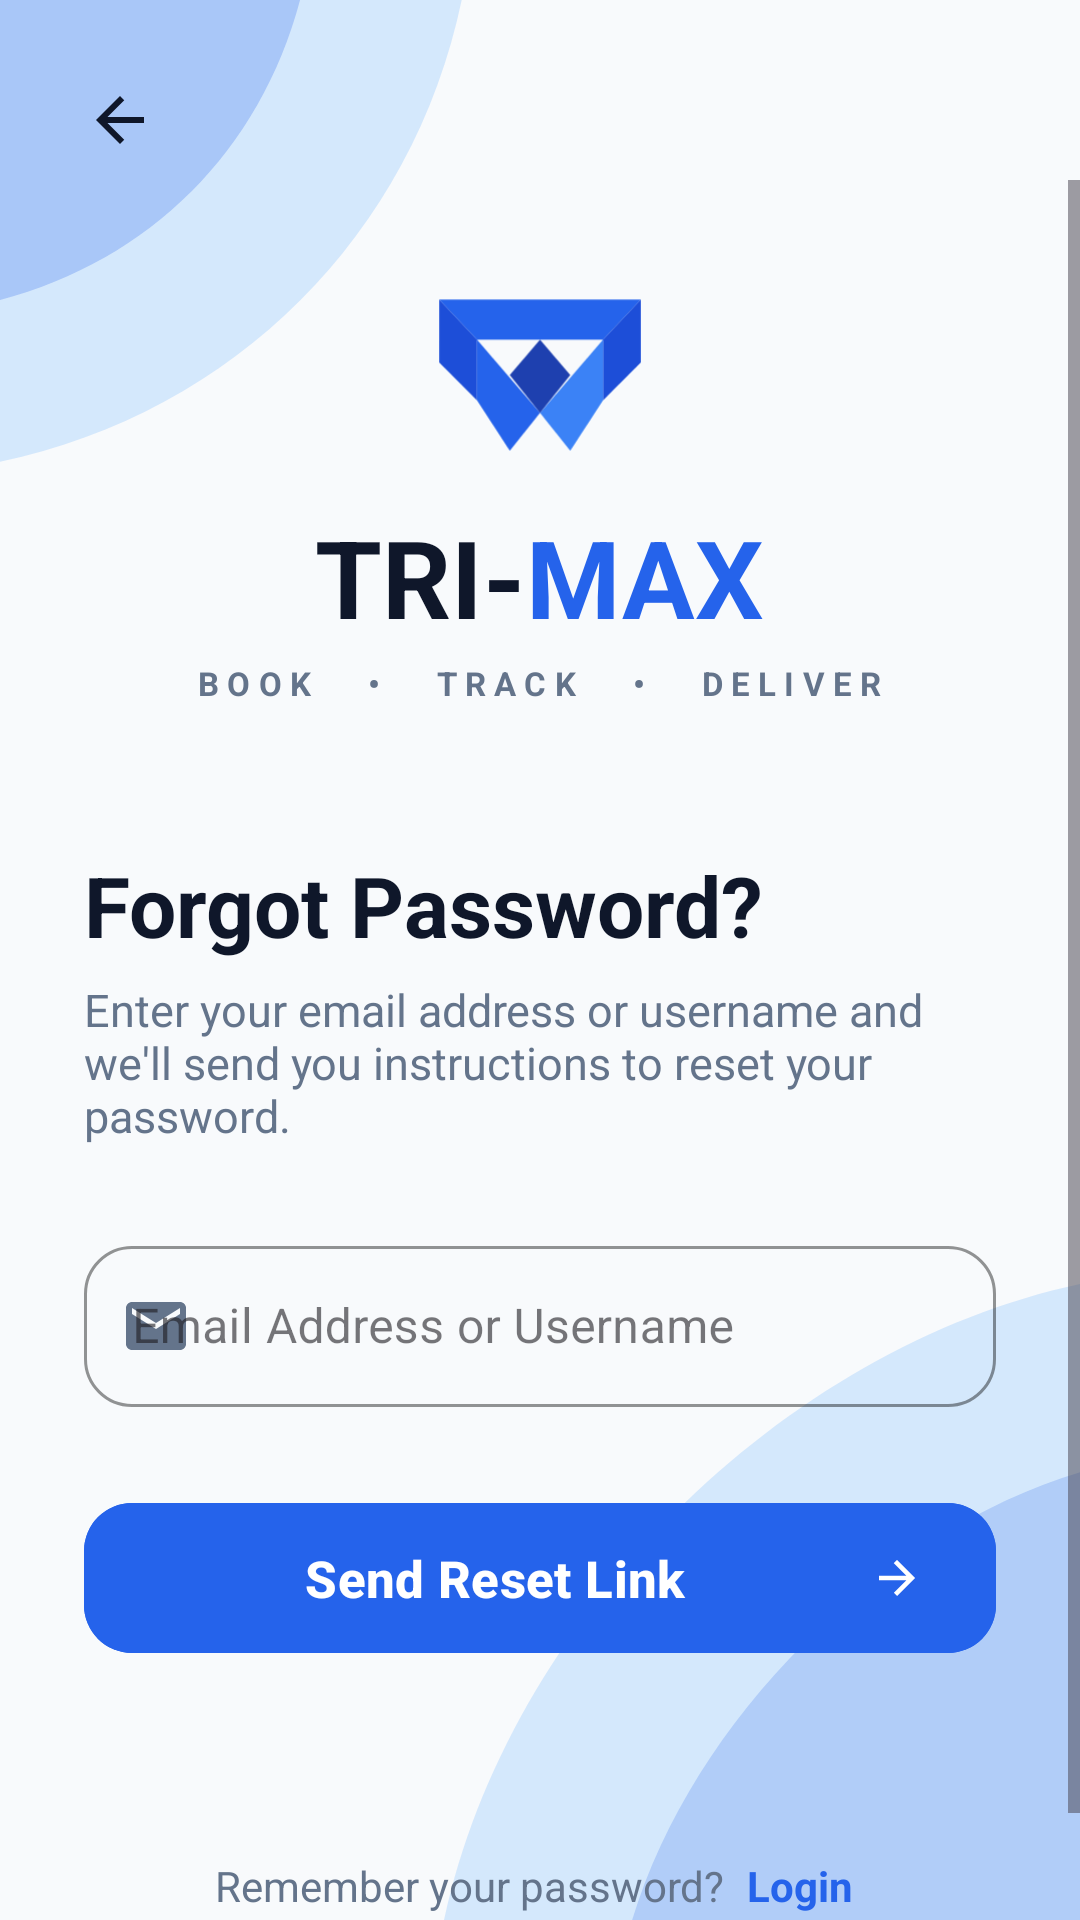

Icons on this 1080 × 1920 Android screen, each with its box as BBox(x1, y1, x2, y2):
Back Button: BBox(96, 96, 144, 144)
